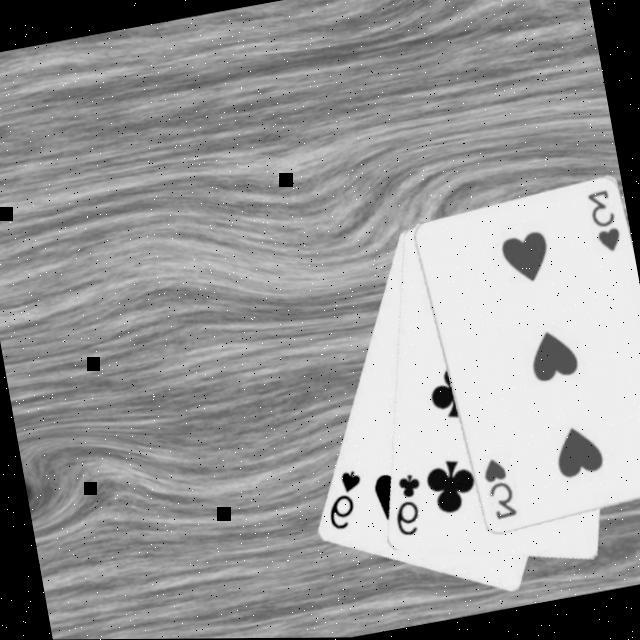3H: (479, 454, 522, 526), (585, 188, 626, 259)
6C: (385, 471, 432, 543)
6S: (319, 467, 373, 537)
